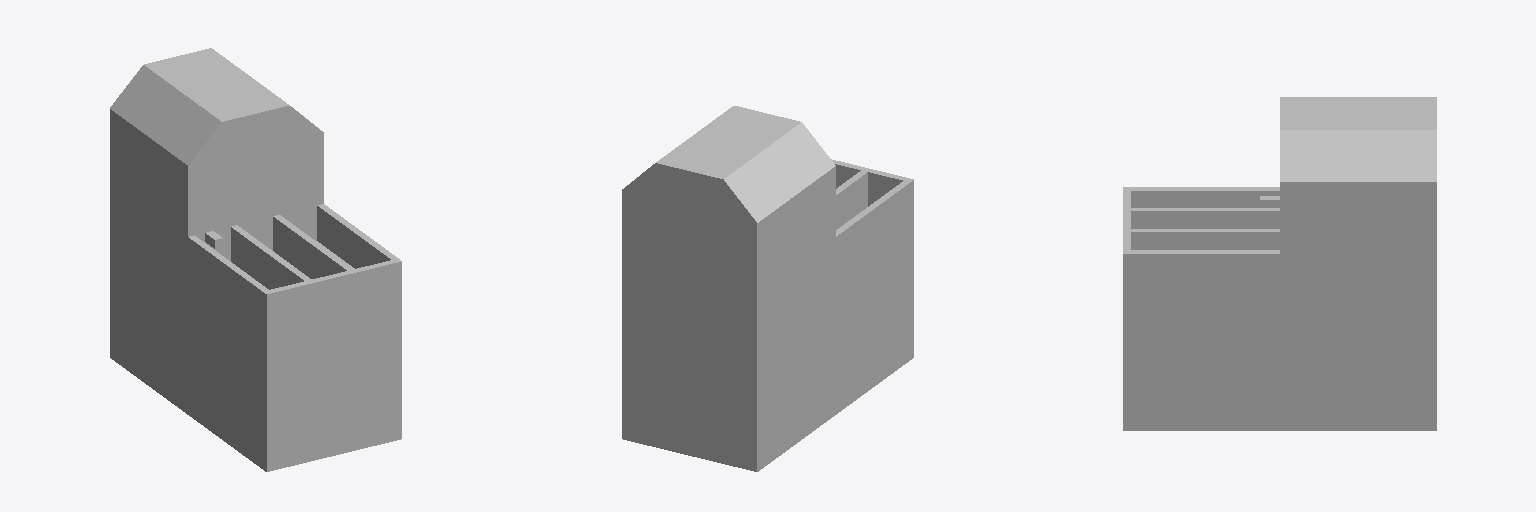
File: large_evaporator.obj
The picture shows the model from 3 angles: view 1: azimuth 30°, elevation 25°; view 2: azimuth 150°, elevation 25°; view 3: azimuth 270°, elevation 25°; orthographic projection.
Visible parts, largest first — view 1: Cube.001_Cube.006, Cube_Cube.005; view 2: Cube.001_Cube.006, Cube_Cube.005; view 3: Cube.001_Cube.006, Cube_Cube.005.
Boxes of the visible parts, x1=… form: Cube.001_Cube.006: x1=110, y1=48, x2=401, y2=329; Cube_Cube.005: x1=110, y1=216, x2=401, y2=471; Cube.001_Cube.006: x1=622, y1=106, x2=913, y2=329; Cube_Cube.005: x1=622, y1=216, x2=913, y2=471; Cube.001_Cube.006: x1=1123, y1=97, x2=1436, y2=288; Cube_Cube.005: x1=1123, y1=289, x2=1436, y2=430.
Size of the model in its own units: 1 by 2 by 2.